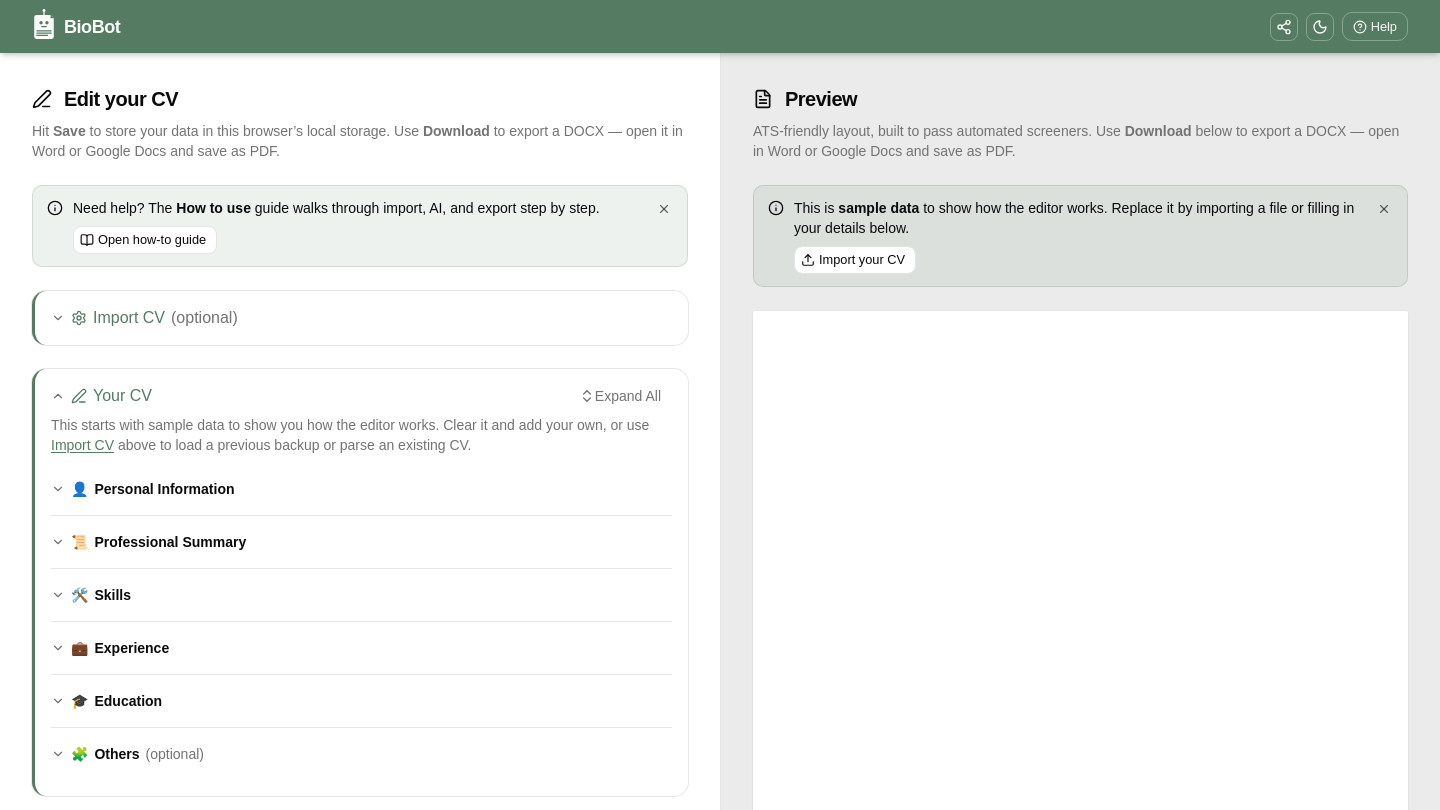
Scenario: CvEditorPage card expansion › Expand/Collapse All on Import card toggles its inner sections
Click the button with id "tools-import-title" at (129, 318), box [35,307,672,329]
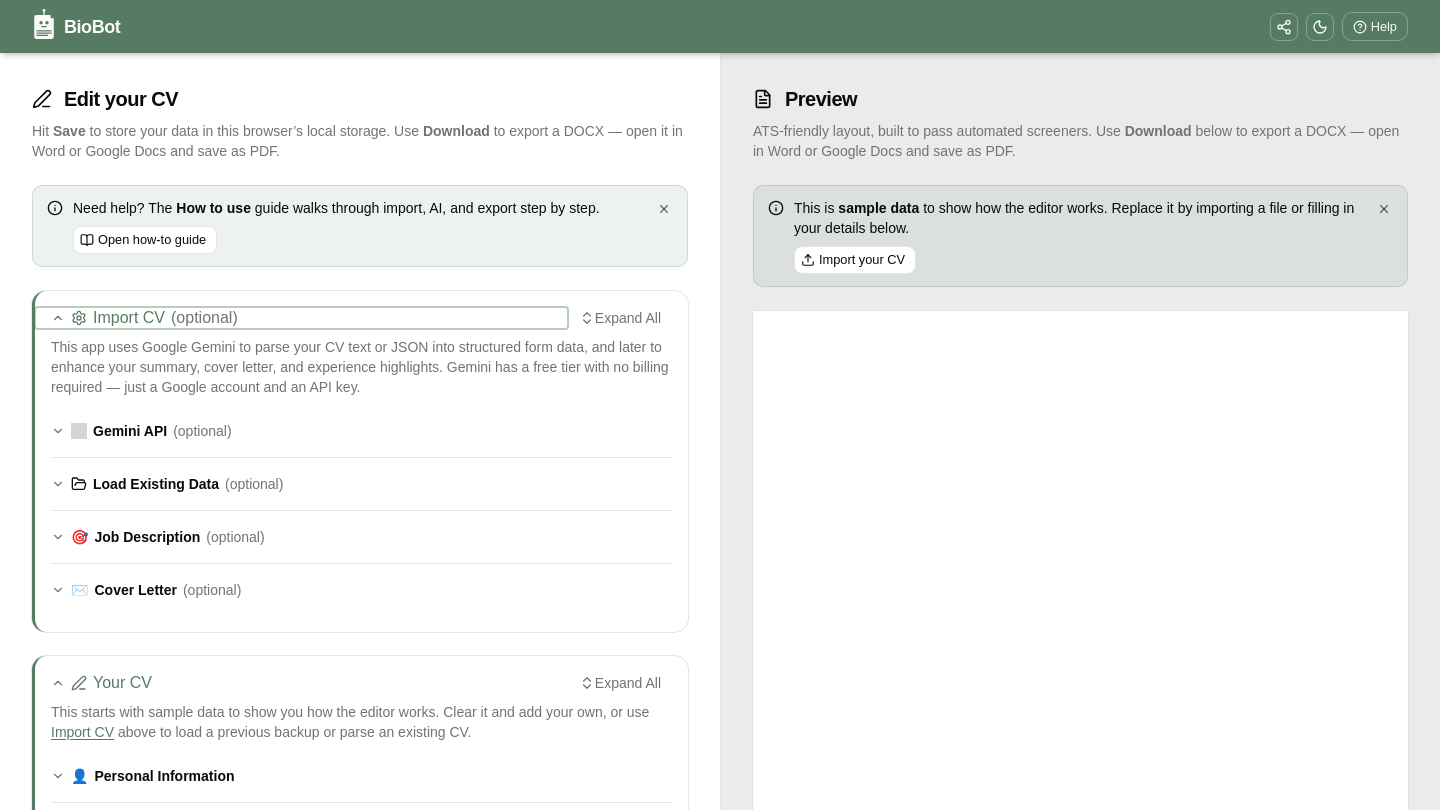
Click the 1st button "Expand All" at (620, 318), box [568,307,672,329]
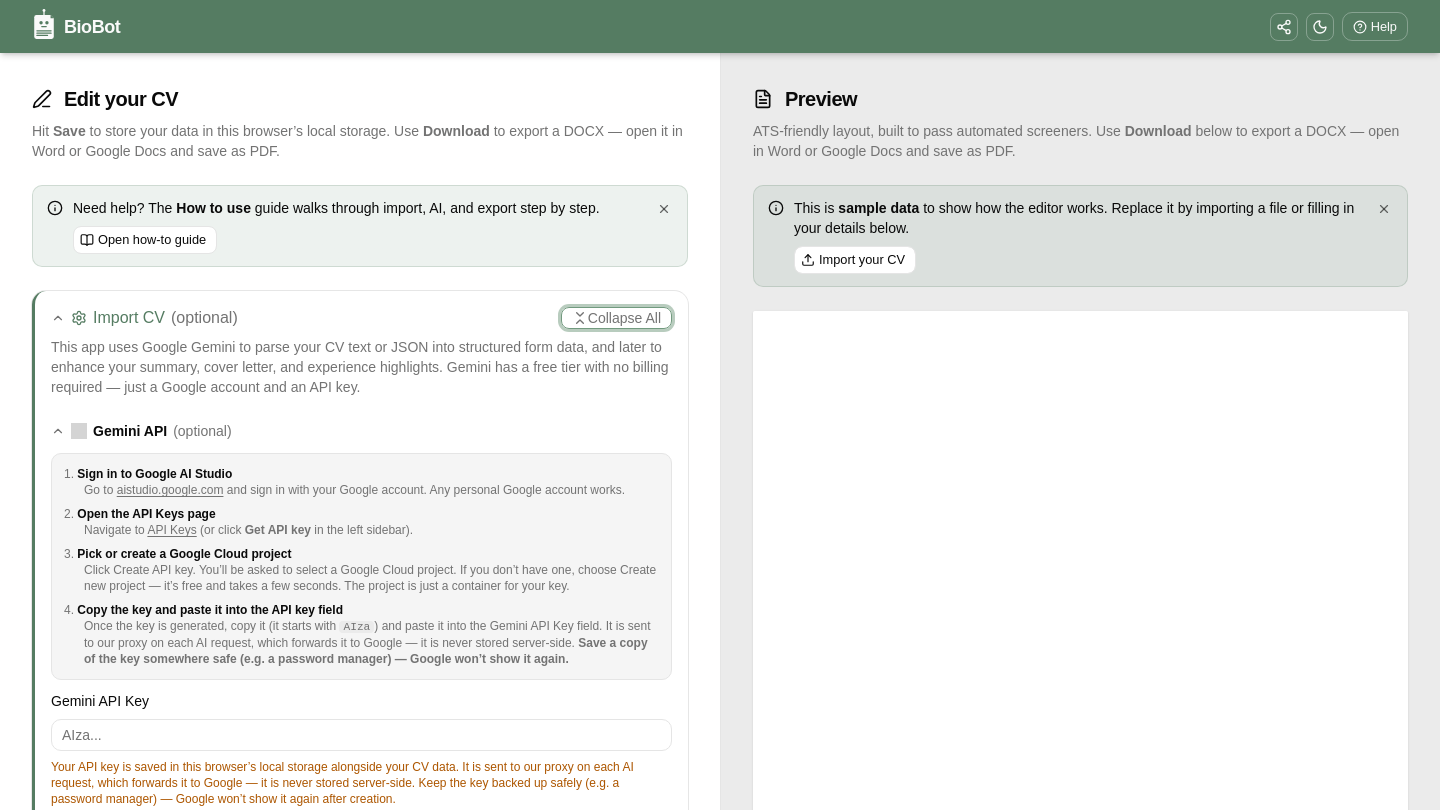
Result: the button with id "ai-settings-title" is expanded at [51,421,672,441]
Click the button "Collapse All" at (616, 318), box [561,307,672,329]
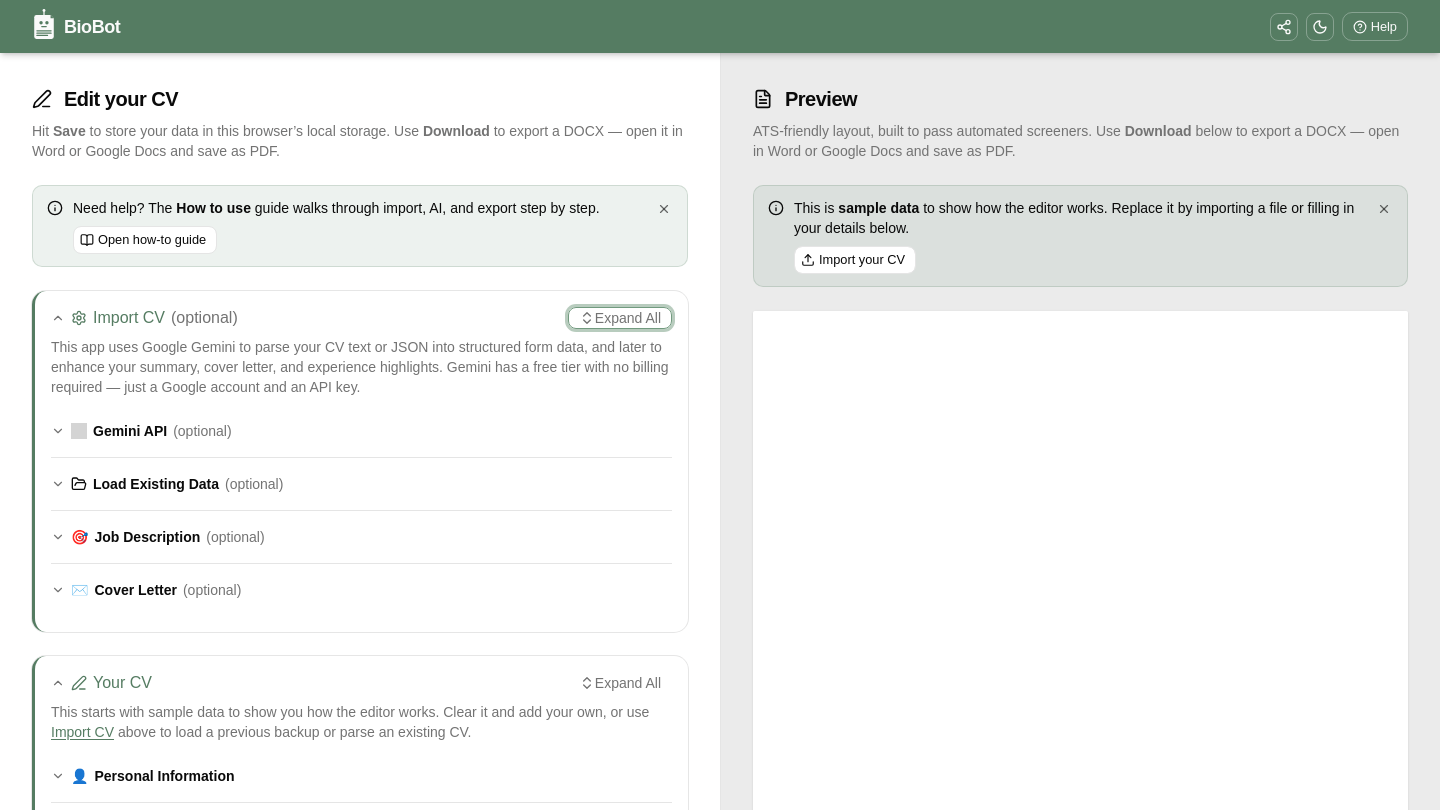
Result: the button with id "ai-settings-title" is collapsed at [51,421,672,441]
